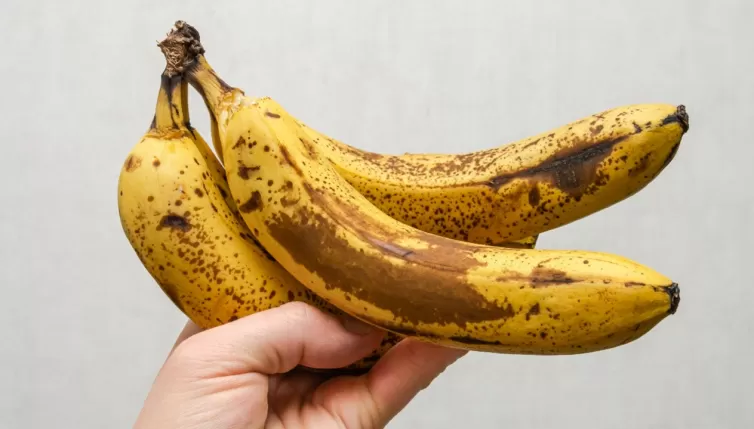banana: (116, 21, 702, 359)
